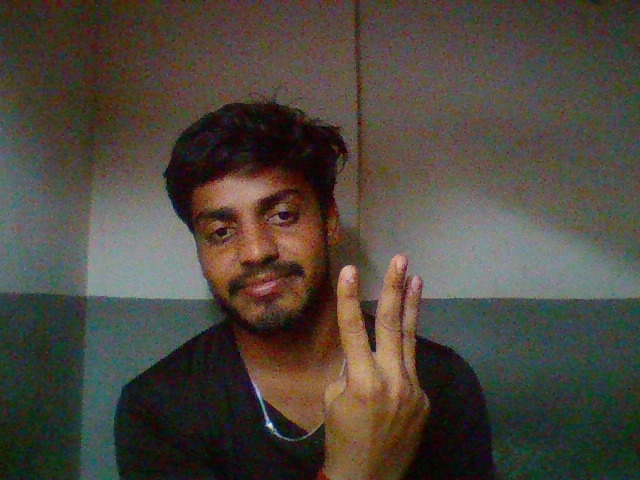W: (319, 235, 451, 471)
